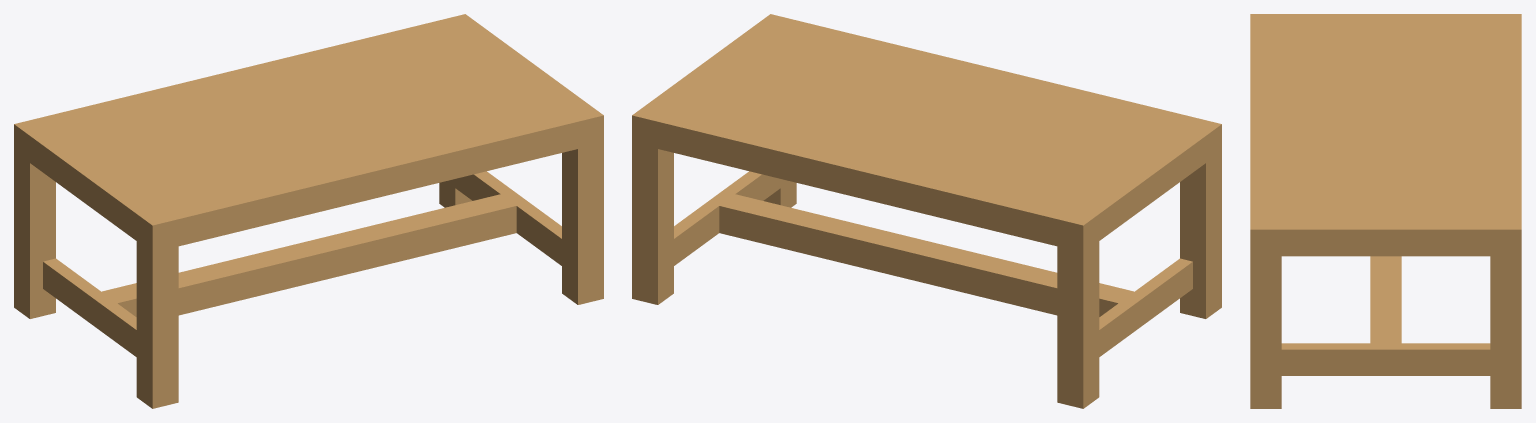
Rendered from table.glb.
3 renders of one model, left to right at view 1: azimuth 30°, elevation 25°; view 2: azimuth 150°, elevation 25°; view 3: azimuth 270°, elevation 25°, orthographic. The views are drawn at different scales.
Bounding box in the file's own units: 8.41 × 3.27 × 4.47.
